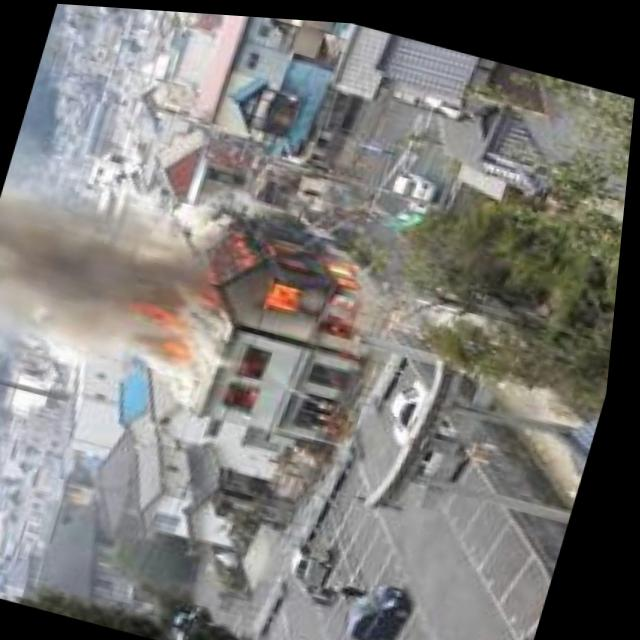Fire: (222, 222, 381, 339), (121, 294, 206, 359)
